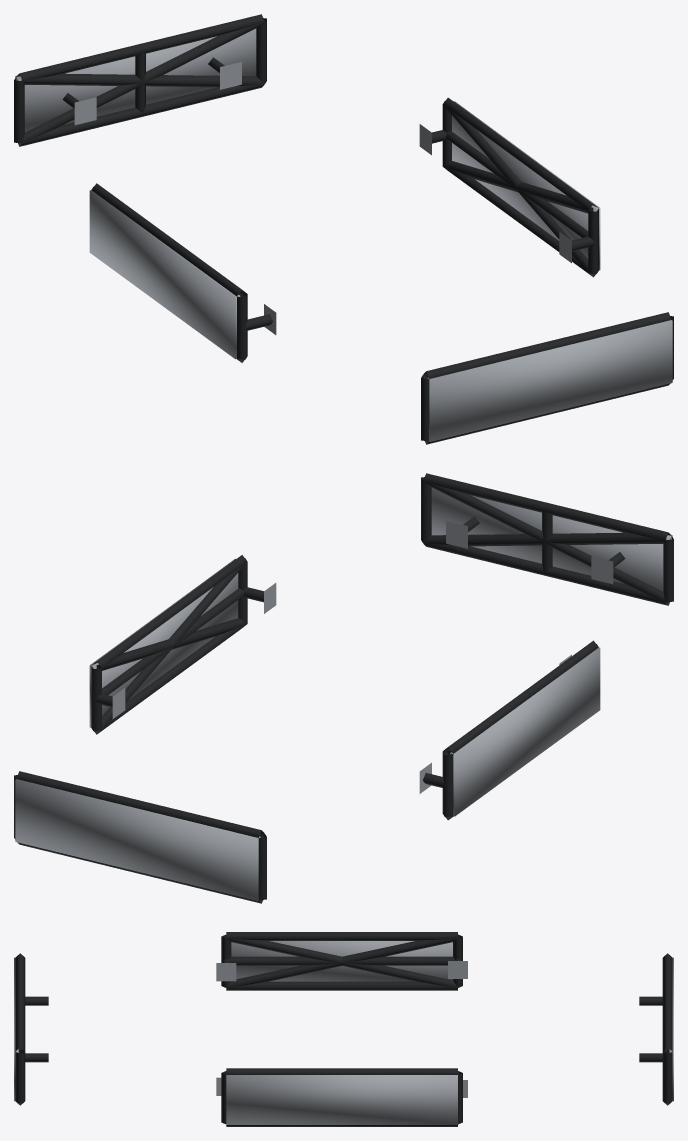
File: dunmere_menta_protecao.glb
The picture shows the model from 3 angles, top to bottom: view 1: azimuth 30°, elevation 25°; view 2: azimuth 150°, elevation 25°; view 3: azimuth 270°, elevation 25°; orthographic projection. The views are drawn at different scales.
Visible parts, largest first — view 1: Protection_front_Level3_Details, Protection_left_Level3_Details, Protection_rear_Level1_Details, Protection_rear_Level3_Details, Protection_right_Level1_Details, Protection_rear_Level2_Details, Protection_right_Level2_Details, Protection_right_Level3_Details, Protection_front_Level1_Details, Protection_left_Level1_Details; view 2: Protection_rear_Level3_Details, Protection_left_Level3_Details, Protection_front_Level1_Details, Protection_front_Level3_Details, Protection_right_Level1_Details, Protection_front_Level2_Details, Protection_right_Level2_Details, Protection_right_Level3_Details, Protection_rear_Level1_Details, Protection_left_Level1_Details; view 3: Protection_right_Level3_Details, Protection_left_Level2_Details, Protection_left_Level1_Details, Protection_left_Level3_Details, Protection_right_Level1_Details, Protection_rear_Level1_Details, Protection_front_Level1_Details.
Part boxes in pixels (x1=…): Protection_front_Level3_Details: x1=427, y1=320, x2=672, y2=441; Protection_left_Level3_Details: x1=89, y1=190, x2=240, y2=359; Protection_rear_Level1_Details: x1=14, y1=14, x2=266, y2=146; Protection_rear_Level3_Details: x1=15, y1=28, x2=256, y2=132; Protection_right_Level1_Details: x1=419, y1=97, x2=598, y2=277; Protection_rear_Level2_Details: x1=16, y1=22, x2=264, y2=145; Protection_right_Level2_Details: x1=443, y1=105, x2=598, y2=276; Protection_right_Level3_Details: x1=452, y1=101, x2=600, y2=270; Protection_front_Level1_Details: x1=421, y1=312, x2=673, y2=444; Protection_left_Level1_Details: x1=91, y1=183, x2=276, y2=362; Protection_rear_Level3_Details: x1=15, y1=779, x2=260, y2=900; Protection_left_Level3_Details: x1=450, y1=647, x2=600, y2=816; Protection_front_Level1_Details: x1=421, y1=473, x2=673, y2=605; Protection_front_Level3_Details: x1=431, y1=487, x2=672, y2=591; Protection_right_Level1_Details: x1=91, y1=555, x2=276, y2=734; Protection_front_Level2_Details: x1=423, y1=481, x2=671, y2=604; Protection_right_Level2_Details: x1=92, y1=562, x2=246, y2=733; Protection_right_Level3_Details: x1=89, y1=558, x2=238, y2=727; Protection_rear_Level1_Details: x1=14, y1=771, x2=266, y2=903; Protection_left_Level1_Details: x1=419, y1=640, x2=598, y2=820; Protection_right_Level3_Details: x1=226, y1=1075, x2=457, y2=1124; Protection_left_Level2_Details: x1=225, y1=935, x2=458, y2=987; Protection_left_Level1_Details: x1=216, y1=932, x2=467, y2=990; Protection_left_Level3_Details: x1=231, y1=941, x2=452, y2=981; Protection_right_Level1_Details: x1=216, y1=1068, x2=467, y2=1126; Protection_rear_Level1_Details: x1=639, y1=953, x2=672, y2=1105; Protection_front_Level1_Details: x1=15, y1=953, x2=48, y2=1105.
Bounding box in the file's own units: 1.84 × 0.354 × 3.62.
Materials: 1 (1 with a texture image).
